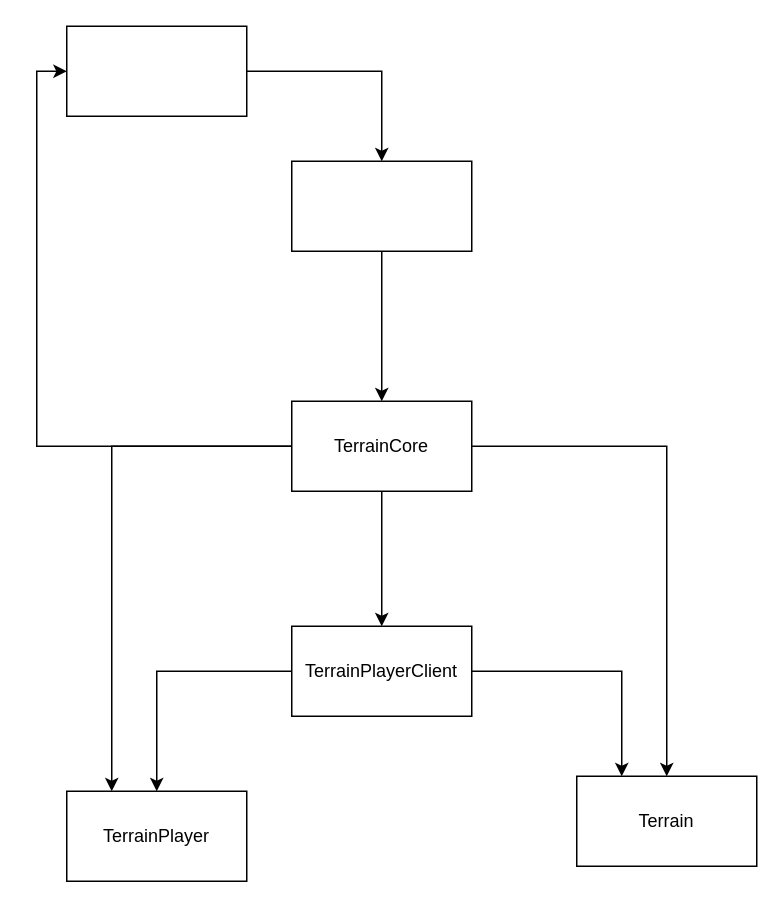
This 783x908 diagram has some shape labels left out. Here are the shapes that lost their labels. From the top down, the centre of each, then its label:
the point at 156,70: TerrainTrace
the point at 381,205: CustomLog
